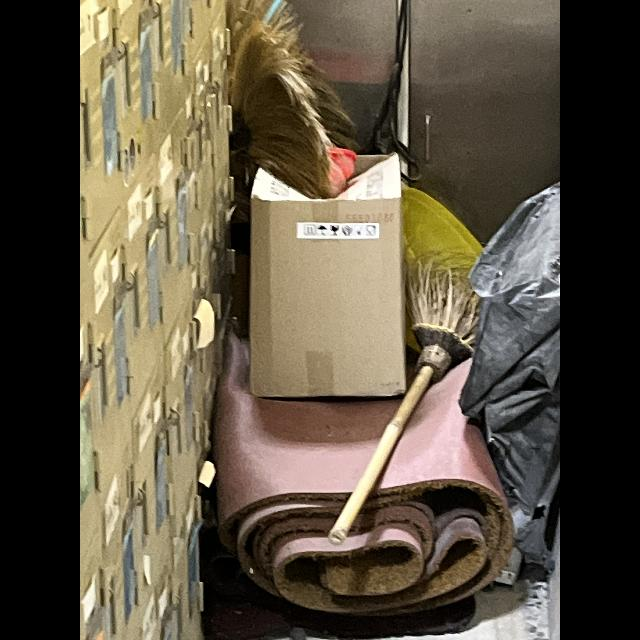cardboard_box: (238, 143, 412, 411)
